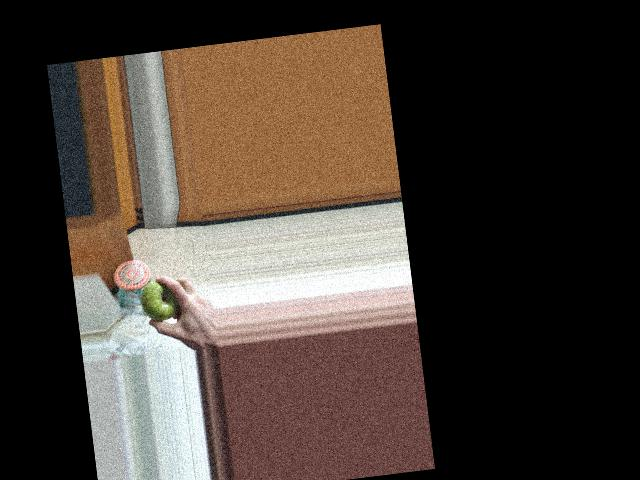apple: (137, 275, 185, 325)
